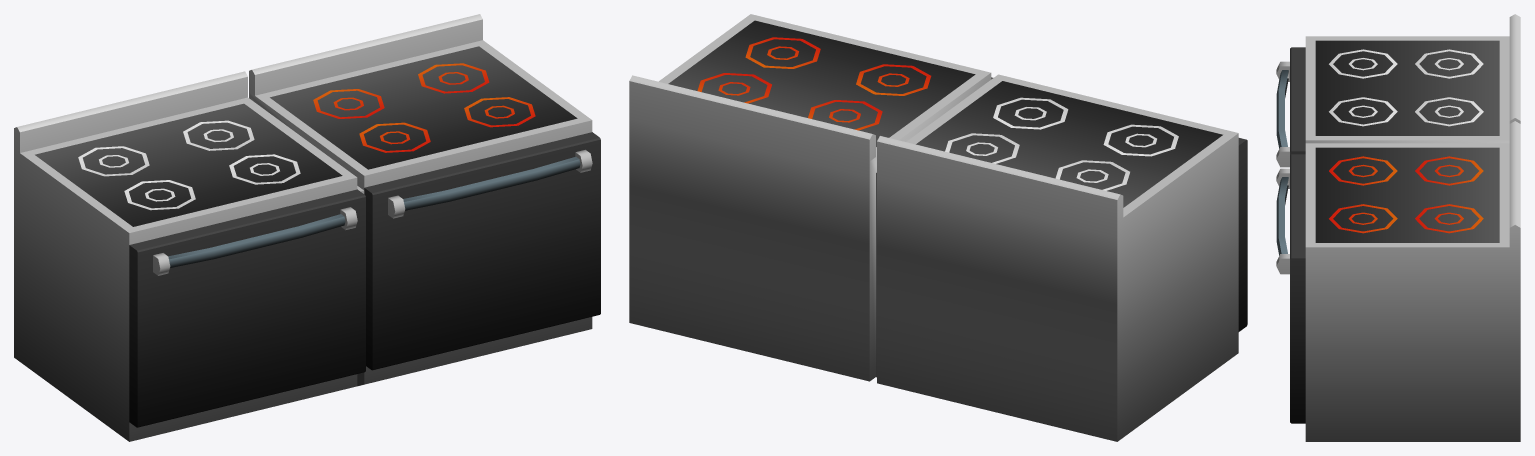
File: Stove.fbx
3 views of the same model, side by side, from view 1: azimuth 30°, elevation 25°; view 2: azimuth 150°, elevation 25°; view 3: azimuth 270°, elevation 25° (orthographic). The views are drawn at different scales.
Parts seen in each view (by area): view 1: Stove.001; view 2: Stove.001; view 3: Stove.001.
Boxes of the visible parts, box(x1,y1,x2,y2) form: Stove.001: box(14, 14, 600, 441); Stove.001: box(629, 14, 1247, 441); Stove.001: box(1276, 14, 1520, 441).
Bounding box in the file's own units: 256 × 123 × 125.
1 material, 1 textured.
